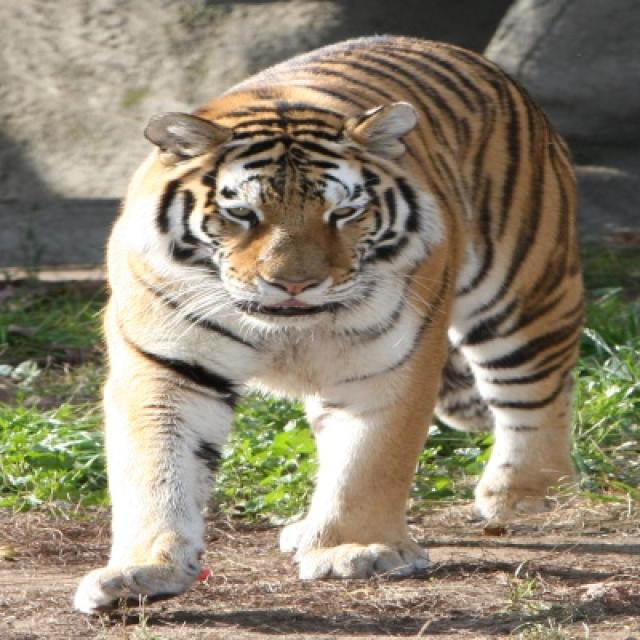Tiger: (79, 38, 585, 612)
